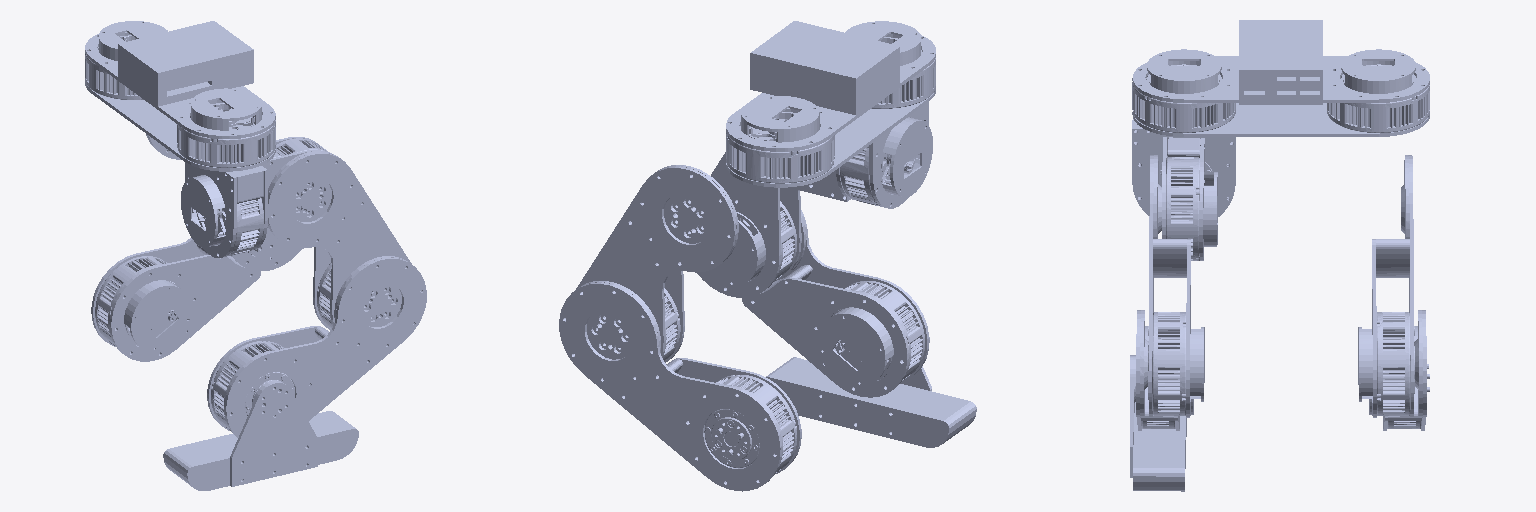
URDF robot description (openduckpro3):
<?xml version="1.0" encoding="utf-8"?>
<!-- This URDF was automatically created by SolidWorks to URDF Exporter! Originally created by Stephen Brawner (brawner@gmail.com)
     Commit Version: 1.6.0-4-g7f85cfe  Build Version: 1.6.7995.38578
     For more information, please see http://wiki.ros.org/sw_urdf_exporter -->
<robot
  name="openduckpro3">
  <!-- Pro3 rotates the physical robot 180 degrees and remaps leg names to root-frame left and right. -->
  <link
    name="base_link" />
  <joint
    name="base_turnaround_joint"
    type="fixed">
    <origin
      xyz="0 0 0"
      rpy="0 0 3.141592653589793" />
    <parent
      link="base_link" />
    <child
      link="base_rotated_link" />
  </joint>
  <link
    name="base_rotated_link">
    <inertial>
      <origin
        xyz="-0.00141080550252965 0 0.0266358869045288"
        rpy="0 0 0" />
      <mass
        value="1.38" />
      <inertia
        ixx="0.00179049"
        ixy="0"
        ixz="0.00001246"
        iyy="0.00039624"
        iyz="0"
        izz="0.00187534" />
    </inertial>
    <visual>
      <origin
        xyz="0 0 0"
        rpy="0 0 0" />
      <geometry>
        <mesh
          filename="../meshes/base_link.STL" />
      </geometry>
      <material
        name="">
        <color
          rgba="0.792156862745098 0.819607843137255 0.933333333333333 1" />
      </material>
    </visual>
    <collision>
      <origin
        xyz="0 0 0"
        rpy="0 0 0" />
      <geometry>
        <mesh
          filename="../meshes/base_link.STL" />
      </geometry>
    </collision>
  </link>
  <link
    name="right_leg_yaw_link">
    <inertial>
      <origin
        xyz="-0.000168509325045557 0.000746362761765561 -0.0417397454040535"
        rpy="0 0 0" />
      <mass
        value="0.48200000" />
      <inertia
        ixx="0.00016435"
        ixy="-0.00000073"
        ixz="-0.00000093"
        iyy="0.00010408"
        iyz="-0.00000016"
        izz="0.00009129" />
    </inertial>
    <visual>
      <origin
        xyz="0 0 0"
        rpy="0 0 0" />
      <geometry>
        <mesh
          filename="../meshes/left_leg_yaw_link.STL" />
      </geometry>
      <material
        name="">
        <color
          rgba="0.792156862745098 0.819607843137255 0.933333333333333 1" />
      </material>
    </visual>
    <collision>
      <origin
        xyz="0 0 0"
        rpy="0 0 0" />
      <geometry>
        <mesh
          filename="../meshes/left_leg_yaw_link.STL" />
      </geometry>
    </collision>
  </link>
  <joint
    name="right_leg_yaw_joint"
    type="revolute">
    <origin
      xyz="0 0.075 -0.0005"
      rpy="0 0 1.5666" />
    <parent
      link="base_rotated_link" />
    <child
      link="right_leg_yaw_link" />
    <axis
      xyz="0 0 1" />
    <limit
      lower="-2"
      upper="2"
      effort="30"
      velocity="21" />
  </joint>
  <link
    name="right_leg_roll_link">
    <inertial>
      <origin
        xyz="0.000744845290186466 0.0001750947555509 -0.0417397453817851"
        rpy="0 0 0" />
      <mass
        value="0.48200000" />
      <inertia
        ixx="0.00009132"
        ixy="0.00000188"
        ixz="0.00000018"
        iyy="0.00016433"
        iyz="0.00000005"
        izz="0.00010407" />
    </inertial>
    <visual>
      <origin
        xyz="0 0 0"
        rpy="0 0 0" />
      <geometry>
        <mesh
          filename="../meshes/left_leg_roll_link.STL" />
      </geometry>
      <material
        name="">
        <color
          rgba="0.792156862745098 0.819607843137255 0.933333333333333 1" />
      </material>
    </visual>
    <collision>
      <origin
        xyz="0 0 0"
        rpy="0 0 0" />
      <geometry>
        <mesh
          filename="../meshes/left_leg_roll_link.STL" />
      </geometry>
    </collision>
  </link>
  <joint
    name="right_leg_roll_joint"
    type="revolute">
    <origin
      xyz="0.00014573 0.016499 -0.049"
      rpy="1.5708 0 -0.0088323" />
    <parent
      link="right_leg_yaw_link" />
    <child
      link="right_leg_roll_link" />
    <axis
      xyz="0 0 1" />
    <limit
      lower="-2"
      upper="2"
      effort="30"
      velocity="21" />
  </joint>
  <link
    name="right_leg_pitch_link">
    <inertial>
      <origin
        xyz="-0.0476473292738206 -0.0769900006807549 0.00428321304072461"
        rpy="0 0 0" />
      <mass
        value="0.59500000" />
      <inertia
        ixx="0.00041776"
        ixy="-0.00001490"
        ixz="-0.00016045"
        iyy="0.00056091"
        iyz="-0.00002449"
        izz="0.00018412" />
    </inertial>
    <visual>
      <origin
        xyz="0 0 0"
        rpy="0 0 0" />
      <geometry>
        <mesh
          filename="../meshes/left_leg_pitch_link.STL" />
      </geometry>
      <material
        name="">
        <color
          rgba="0.792156862745098 0.819607843137255 0.933333333333333 1" />
      </material>
    </visual>
    <collision>
      <origin
        xyz="0 0 0"
        rpy="0 0 0" />
      <geometry>
        <mesh
          filename="../meshes/left_leg_pitch_link.STL" />
      </geometry>
    </collision>
  </link>
  <joint
    name="right_leg_pitch_joint"
    type="revolute">
    <origin
      xyz="0.0165 0 -0.049"
      rpy="0 -1.5708 0" />
    <parent
      link="right_leg_roll_link" />
    <child
      link="right_leg_pitch_link" />
    <axis
      xyz="0 0 1" />
    <limit
      lower="-2"
      upper="2"
      effort="30"
      velocity="21" />
  </joint>
  <link
    name="right_knee_pitch_link">
    <inertial>
      <origin
        xyz="0.0769900006831681 -0.0476473292752241 0.00428321304107685"
        rpy="0 0 0" />
      <mass
        value="0.59500000" />
      <inertia
        ixx="0.00018488"
        ixy="0.00003146"
        ixz="0.00015989"
        iyy="0.00055974"
        iyz="-0.00001884"
        izz="0.00041817" />
    </inertial>
    <visual>
      <origin
        xyz="0 0 0"
        rpy="0 0 0" />
      <geometry>
        <mesh
          filename="../meshes/left_knee_pitch_link.STL" />
      </geometry>
      <material
        name="">
        <color
          rgba="0.792156862745098 0.819607843137255 0.933333333333333 1" />
      </material>
    </visual>
    <collision>
      <origin
        xyz="0 0 0"
        rpy="0 0 0" />
      <geometry>
        <mesh
          filename="../meshes/left_knee_pitch_link.STL" />
      </geometry>
    </collision>
  </link>
  <joint
    name="right_knee_pitch_joint"
    type="revolute">
    <origin
      xyz="-0.06 -0.10392 -0.0095"
      rpy="0 0 0" />
    <parent
      link="right_leg_pitch_link" />
    <child
      link="right_knee_pitch_link" />
    <axis
      xyz="0 0 1" />
    <limit
      lower="-2"
      upper="2"
      effort="30"
      velocity="21" />
  </joint>
  <link
    name="right_ankle_pitch_link">
    <inertial>
      <origin
        xyz="-0.000135018905672298 -0.0514949406389236 0.0148389070782686"
        rpy="0 0 0" />
      <mass
        value="0.10200000" />
      <inertia
        ixx="0.00005446"
        ixy="0.00000355"
        ixz="-0.00000017"
        iyy="0.00033166"
        iyz="-0.00000821"
        izz="0.00033135" />
    </inertial>
    <visual>
      <origin
        xyz="0 0 0"
        rpy="0 0 0" />
      <geometry>
        <mesh
          filename="../meshes/left_ankle_pitch_link.STL" />
      </geometry>
      <material
        name="">
        <color
          rgba="0.792156862745098 0.819607843137255 0.933333333333333 1" />
      </material>
    </visual>
    <collision>
      <origin
        xyz="-0.045 -0.061 0.0"
        rpy="0 0 0" />
      <geometry>
        <sphere
          radius="0.006" />
      </geometry>
    </collision>
    <collision>
      <origin
        xyz="-0.045 -0.061 0.031"
        rpy="0 0 0" />
      <geometry>
        <sphere
          radius="0.006" />
      </geometry>
    </collision>
    <collision>
      <origin
        xyz="0.045 -0.061 0.0"
        rpy="0 0 0" />
      <geometry>
        <sphere
          radius="0.006" />
      </geometry>
    </collision>
    <collision>
      <origin
        xyz="0.045 -0.061 0.031"
        rpy="0 0 0" />
      <geometry>
        <sphere
          radius="0.006" />
      </geometry>
    </collision>
  </link>
  <joint
    name="right_ankle_pitch_joint"
    type="revolute">
    <origin
      xyz="0.10392 -0.06 -0.0095"
      rpy="0 0 0" />
    <parent
      link="right_knee_pitch_link" />
    <child
      link="right_ankle_pitch_link" />
    <axis
      xyz="0 0 1" />
    <limit
      lower="-2"
      upper="2"
      effort="30"
      velocity="21" />
  </joint>
  <link
    name="left_leg_yaw_link">
    <inertial>
      <origin
        xyz="0.000162239499888887 0.000747750700068832 -0.0417397454040535"
        rpy="0 0 0" />
      <mass
        value="0.48200000" />
      <inertia
        ixx="0.000164333502184861"
        ixy="1.23569864470197e-06"
        ixz="9.31310055967726e-07"
        iyy="0.000104096497815139"
        iyz="-1.52189288891795e-07"
        izz="9.129e-05" />
    </inertial>
    <visual>
      <origin
        xyz="0 0 0"
        rpy="0 0 -3.1332" />
      <geometry>
        <mesh
          filename="../meshes/right_leg_yaw_link.STL" />
      </geometry>
      <material
        name="">
        <color
          rgba="0.792156862745098 0.819607843137255 0.933333333333333 1" />
      </material>
    </visual>
    <collision>
      <origin
        xyz="0 0 0"
        rpy="0 0 -3.1332" />
      <geometry>
        <mesh
          filename="../meshes/right_leg_yaw_link.STL" />
      </geometry>
    </collision>
  </link>
  <joint
    name="left_leg_yaw_joint"
    type="revolute">
    <origin
      xyz="0 -0.075 -0.0005"
      rpy="0 0 1.5666" />
    <parent
      link="base_rotated_link" />
    <child
      link="left_leg_yaw_link" />
    <axis
      xyz="0 0 1" />
    <limit
      lower="-2"
      upper="2"
      effort="30"
      velocity="21" />
  </joint>
  <link
    name="left_leg_roll_link">
    <inertial>
      <origin
        xyz="-0.0018320924752507 0.000175094878881921 -0.0417061695215649"
        rpy="0 0 0" />
      <mass
        value="0.48200000" />
      <inertia
        ixx="9.13192783166185e-05"
        ixy="-1.87805209170626e-06"
        ixz="1.52324008039352e-07"
        iyy="0.000164330000359717"
        iyz="9.89650300594828e-08"
        izz="0.000104070721323664" />
    </inertial>
    <visual>
      <origin
        xyz="0 0 0"
        rpy="1.24736998508013e-09 -0.0260572535896173 3.14159255785449" />
      <geometry>
        <mesh
          filename="../meshes/right_leg_roll_link.STL" />
      </geometry>
      <material
        name="">
        <color
          rgba="0.792156862745098 0.819607843137255 0.933333333333333 1" />
      </material>
    </visual>
    <collision>
      <origin
        xyz="0 0 0"
        rpy="1.24736998508013e-09 -0.0260572535896173 3.14159255785449" />
      <geometry>
        <mesh
          filename="../meshes/right_leg_roll_link.STL" />
      </geometry>
    </collision>
  </link>
  <joint
    name="left_leg_roll_joint"
    type="revolute">
    <origin
      xyz="-0.000284193633683769 0.0164971958893466 -0.049"
      rpy="1.5708 0 -0.0088323" />
    <parent
      link="left_leg_yaw_link" />
    <child
      link="left_leg_roll_link" />
    <axis
      xyz="0 0 1" />
    <limit
      lower="-2"
      upper="2"
      effort="30"
      velocity="21" />
  </joint>
  <link
    name="left_leg_pitch_link">
    <inertial>
      <origin
        xyz="-0.0477427727632244 -0.0769900010312396 -0.0030399828604115"
        rpy="0 0 0" />
      <mass
        value="0.59500000" />
      <inertia
        ixx="0.000425961651983631"
        ixy="-1.42566746645923e-05"
        ixz="0.000154145067567034"
        iyy="0.000560910004724689"
        iyz="2.48699635822043e-05"
        izz="0.000175918343291679" />
    </inertial>
    <visual>
      <origin
        xyz="0 0 0"
        rpy="3.14159255785447 0.0260645999998239 -1.24772214782354e-09" />
      <geometry>
        <mesh
          filename="../meshes/right_leg_pitch_link.STL" />
      </geometry>
      <material
        name="">
        <color
          rgba="0.792156862745098 0.819607843137255 0.933333333333333 1" />
      </material>
    </visual>
    <collision>
      <origin
        xyz="0 0 0"
        rpy="3.14159255785447 0.0260645999998239 -1.24772214782354e-09" />
      <geometry>
        <mesh
          filename="../meshes/right_leg_pitch_link.STL" />
      </geometry>
    </collision>
  </link>
  <joint
    name="left_leg_pitch_joint"
    type="revolute">
    <origin
      xyz="-0.0177710596712465 1.64019668618631e-09 -0.0485534698879596"
      rpy="0 -1.5708 0" />
    <parent
      link="left_leg_roll_link" />
    <child
      link="left_leg_pitch_link" />
    <axis
      xyz="0 0 1" />
    <limit
      lower="-2"
      upper="2"
      effort="30"
      velocity="21" />
  </joint>
  <link
    name="left_knee_pitch_link">
    <inertial>
      <origin
        xyz="0.0768522225355034 -0.0476473297811689 -0.00628823999932516"
        rpy="0 0 0" />
      <mass
        value="0.59500000" />
      <inertia
        ixx="0.000176707289381235"
        ixy="3.19403005067536e-05"
        ixz="-0.000153594948506433"
        iyy="0.0005597400035276"
        iyz="1.80136883275574e-05"
        izz="0.000426342707091164" />
    </inertial>
    <visual>
      <origin
        xyz="0 0 0"
        rpy="3.14159255785447 0.0260645999998239 -1.24772214782354e-09" />
      <geometry>
        <mesh
          filename="../meshes/right_knee_pitch_link.STL" />
      </geometry>
      <material
        name="">
        <color
          rgba="0.792156862745098 0.819607843137255 0.933333333333333 1" />
      </material>
    </visual>
    <collision>
      <origin
        xyz="0 0 0"
        rpy="3.14159255785447 0.0260645999998239 -1.24772214782354e-09" />
      <geometry>
        <mesh
          filename="../meshes/right_knee_pitch_link.STL" />
      </geometry>
    </collision>
  </link>
  <joint
    name="left_knee_pitch_joint"
    type="revolute">
    <origin
      xyz="-0.059732034458659 -0.103919999015985 0.0110604820847577"
      rpy="0 0 0" />
    <parent
      link="left_leg_pitch_link" />
    <child
      link="left_knee_pitch_link" />
    <axis
      xyz="0 0 1" />
    <limit
      lower="-2"
      upper="2"
      effort="30"
      velocity="21" />
  </joint>
  <link
    name="left_ankle_pitch_link">
    <inertial>
      <origin
        xyz="-0.000521699366591361 -0.0514949420588799 -0.0148303431151184"
        rpy="0 0 0" />
      <mass
        value="0.10200000" />
      <inertia
        ixx="5.46569242716418e-05"
        ixy="3.76276069668404e-06"
        ixz="7.38352758065726e-06"
        iyy="0.000331660001562584"
        iyz="8.11469247841254e-06"
        izz="0.000331153074165774" />
    </inertial>
    <visual>
      <origin
        xyz="0 0 0"
        rpy="3.14159255785447 0.0260645999998239 -1.24772214782354e-09" />
      <geometry>
        <mesh
          filename="../meshes/right_ankle_pitch_link.STL" />
      </geometry>
      <material
        name="">
        <color
          rgba="0.792156862745098 0.819607843137255 0.933333333333333 1" />
      </material>
    </visual>
    <collision>
      <origin
        xyz="-0.0449847151133767 -0.0609999999438713 0.00117278003736471"
        rpy="3.14159255785447 0.0260645999998239 -1.24772214782354e-09" />
      <geometry>
        <sphere
          radius="0.006" />
      </geometry>
    </collision>
    <collision>
      <origin
        xyz="-0.0457926262285836 -0.0610000029106582 -0.0298166904264867"
        rpy="3.14159255785447 0.0260645999998239 -1.24772214782354e-09" />
      <geometry>
        <sphere
          radius="0.006" />
      </geometry>
    </collision>
    <collision>
      <origin
        xyz="0.0449847152655471 -0.0610000000561282 -0.00117276836162295"
        rpy="3.14159255785447 0.0260645999998239 -1.24772214782354e-09" />
      <geometry>
        <sphere
          radius="0.006" />
      </geometry>
    </collision>
    <collision>
      <origin
        xyz="0.0441768041503402 -0.061000003022915 -0.0321622388254743"
        rpy="3.14159255785447 0.0260645999998239 -1.24772214782354e-09" />
      <geometry>
        <sphere
          radius="0.006" />
      </geometry>
    </collision>
  </link>
  <joint
    name="left_ankle_pitch_joint"
    type="revolute">
    <origin
      xyz="0.104132288016706 -0.0599999992204424 0.00678845239746779"
      rpy="0 0 0" />
    <parent
      link="left_knee_pitch_link" />
    <child
      link="left_ankle_pitch_link" />
    <axis
      xyz="0 0 1" />
    <limit
      lower="-2"
      upper="2"
      effort="30"
      velocity="21" />
  </joint>
</robot>

--- Facts derived from the render (not from the file) ---
The picture shows the robot from 3 angles, left to right: view 1: azimuth 30°, elevation 25°; view 2: azimuth 150°, elevation 25°; view 3: azimuth 270°, elevation 25°; orthographic projection.
Model openduckpro3 with 12 links and 11 joints (10 revolute, 1 fixed), rooted at base_link, posed every joint at zero.
Links seen in each view (by area): view 1: base_rotated_link, right_knee_pitch_link, left_knee_pitch_link, right_leg_pitch_link, right_ankle_pitch_link, right_leg_yaw_link, right_leg_roll_link, left_leg_pitch_link; view 2: base_rotated_link, left_knee_pitch_link, right_knee_pitch_link, left_leg_pitch_link, right_ankle_pitch_link, right_leg_pitch_link, right_leg_yaw_link, right_leg_roll_link; view 3: base_rotated_link, right_leg_pitch_link, left_leg_pitch_link, right_leg_roll_link, right_ankle_pitch_link, right_leg_yaw_link, left_knee_pitch_link, right_knee_pitch_link.
Boxes of the visible links, x1,y1,x2,y2 form: base_rotated_link: [85, 21, 275, 171]; right_knee_pitch_link: [207, 256, 426, 437]; left_knee_pitch_link: [91, 238, 260, 361]; right_leg_pitch_link: [268, 151, 411, 330]; right_ankle_pitch_link: [163, 380, 358, 490]; right_leg_yaw_link: [181, 162, 267, 257]; right_leg_roll_link: [255, 137, 329, 252]; left_leg_pitch_link: [146, 134, 301, 270]; base_rotated_link: [726, 21, 935, 187]; left_knee_pitch_link: [559, 281, 801, 491]; right_knee_pitch_link: [742, 210, 929, 397]; left_leg_pitch_link: [576, 165, 738, 362]; right_ankle_pitch_link: [766, 357, 976, 447]; right_leg_pitch_link: [697, 152, 801, 297]; right_leg_yaw_link: [836, 102, 932, 208]; right_leg_roll_link: [790, 170, 850, 201]; base_rotated_link: [1132, 20, 1429, 136]; right_leg_pitch_link: [1148, 155, 1204, 417]; left_leg_pitch_link: [1358, 155, 1414, 417]; right_leg_roll_link: [1162, 137, 1217, 260]; right_ankle_pitch_link: [1130, 355, 1186, 491]; right_leg_yaw_link: [1132, 119, 1235, 216]; left_knee_pitch_link: [1369, 310, 1429, 430]; right_knee_pitch_link: [1136, 310, 1193, 430].
Bounding box of the posed robot: 0.2258 × 0.2323 × 0.3424 m (x, y, z).
Meshes: 11 distinct files referenced, 8 mesh visuals loaded (8 binary STL); not drawn: 3 (reference not matched to a file when rendering).
